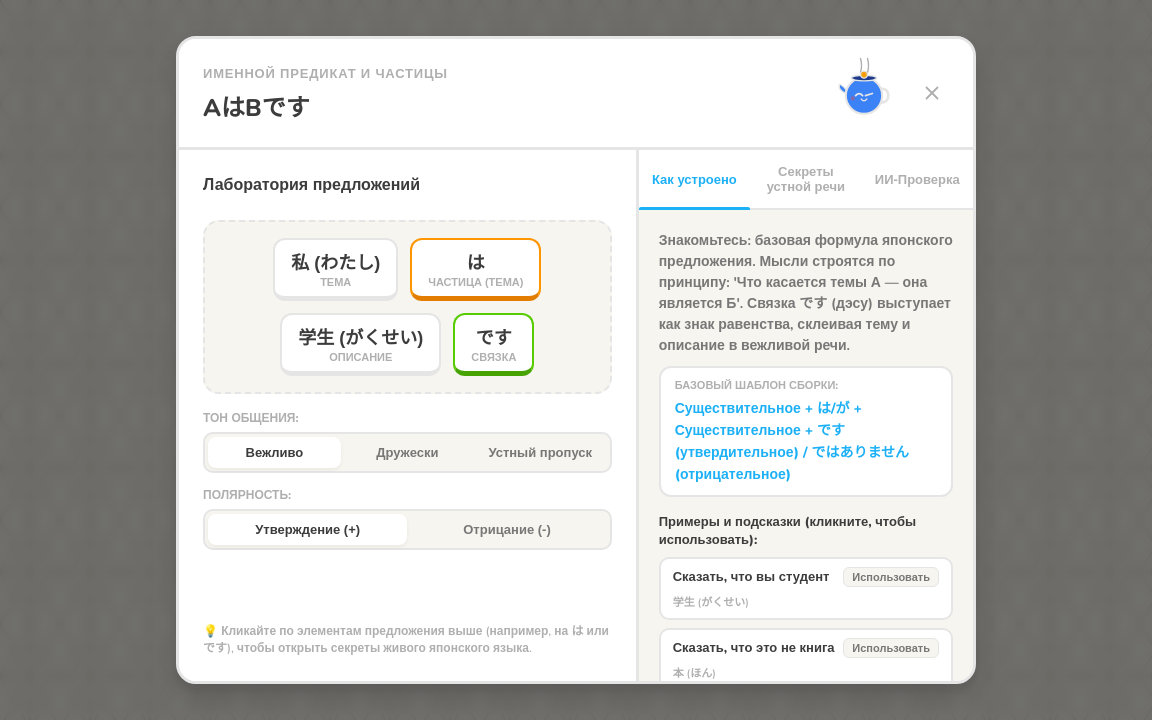
GrammarTrainer Component › clicking card opens its explanation tooltip
The image size is (1152, 720).
Note: Кликаем по кнопке «は» (карточка с подсказкой)
Click the button "は Частица (Тема)". click: (476, 270)
box: left=410, top=238, right=541, bottom=301
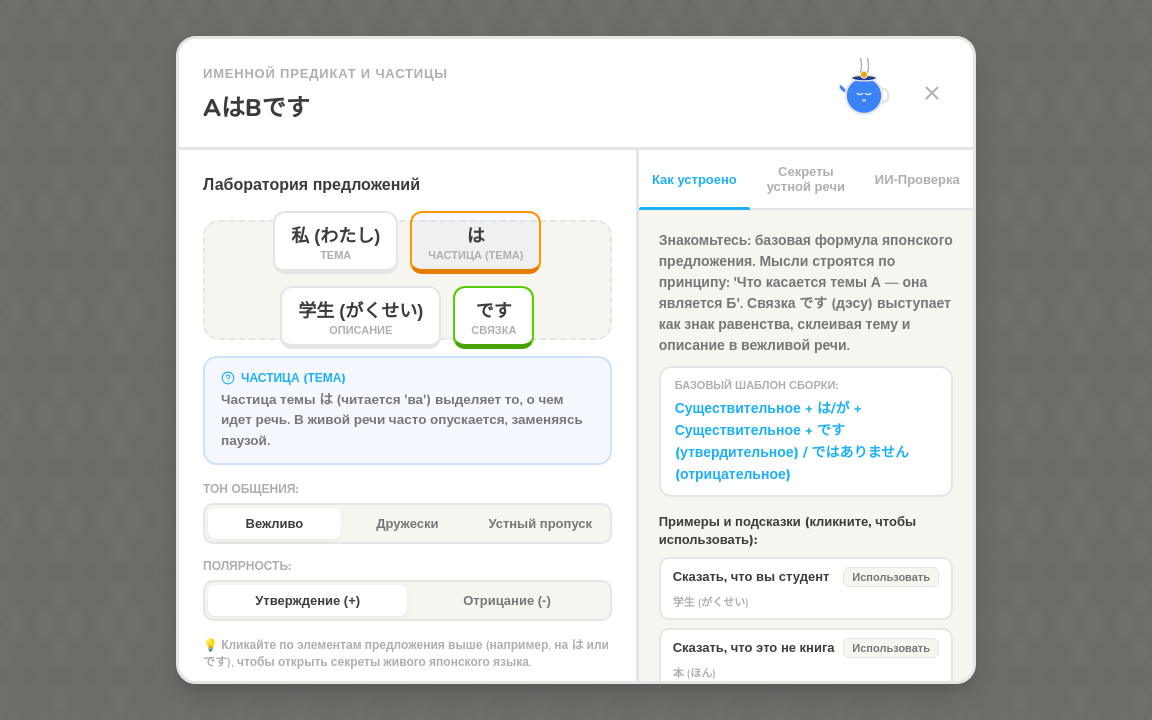
Expected: the 1st text "Частица (Тема)" is shown, left=428, top=249, right=523, bottom=261
Expected: the text "Частица темы は" is shown, left=221, top=390, right=583, bottom=450
